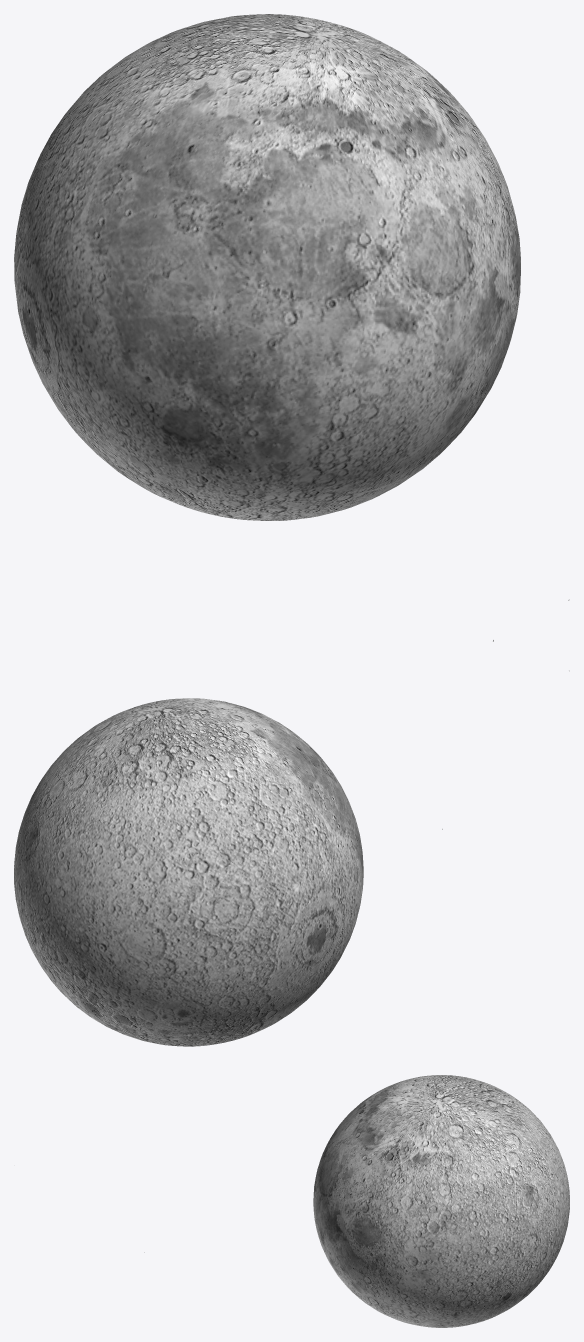
File: moon1.obj
The picture shows the model from 3 angles, top to bottom: view 1: azimuth 30°, elevation 25°; view 2: azimuth 150°, elevation 25°; view 3: azimuth 270°, elevation 25°; orthographic projection. The views are drawn at different scales.
Visible parts, largest first — view 1: Moon; view 2: Moon; view 3: Moon.
Boxes of the visible parts, x1=… form: Moon: x1=14, y1=14, x2=569, y2=641; Moon: x1=14, y1=670, x2=569, y2=1046; Moon: x1=144, y1=1075, x2=569, y2=1327.
Size of the model in its own units: 4.18 by 4.18 by 9.19.
Materials: 1 (1 with a texture image).
